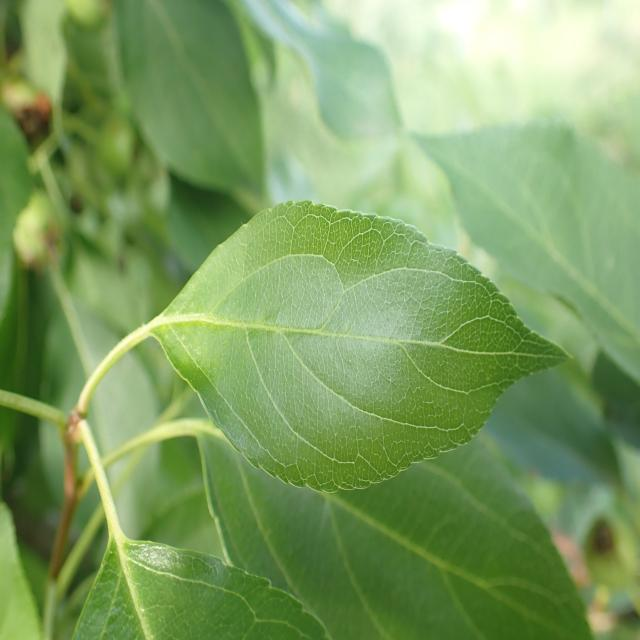healthy: (160, 200, 577, 493), (202, 406, 593, 640), (116, 0, 269, 208), (71, 534, 328, 640)
